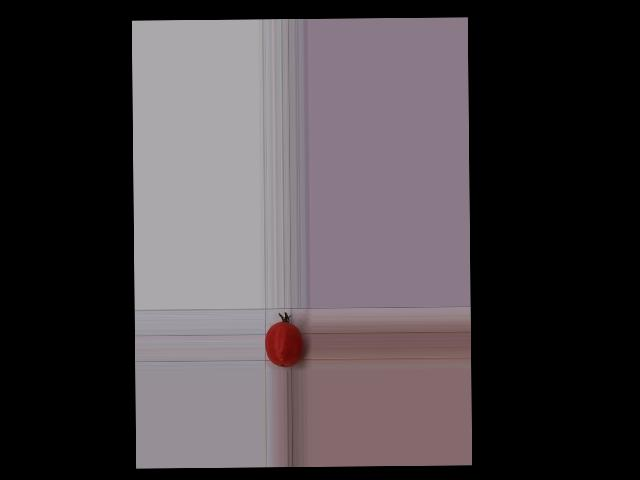tomato: (264, 321, 303, 367)
